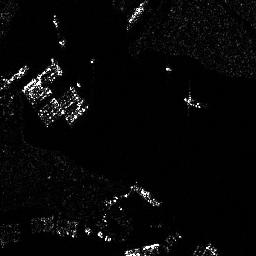ship: (1, 65, 27, 90), (131, 184, 159, 206), (126, 2, 146, 30)
